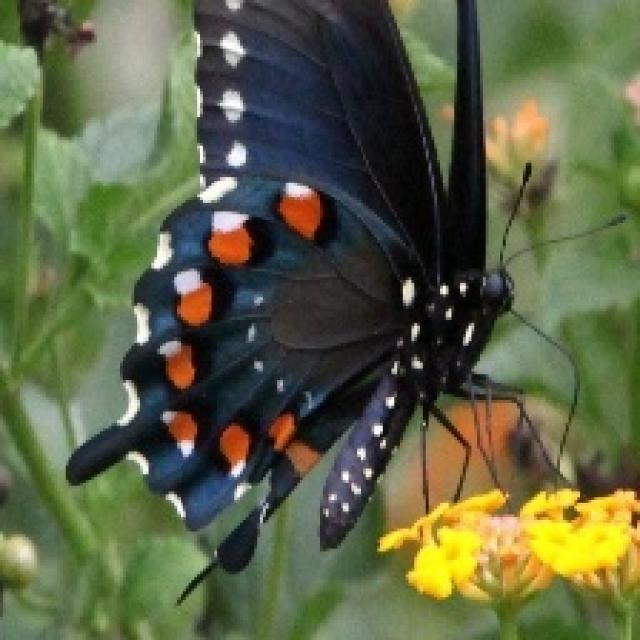butterfly: (63, 0, 626, 603)
